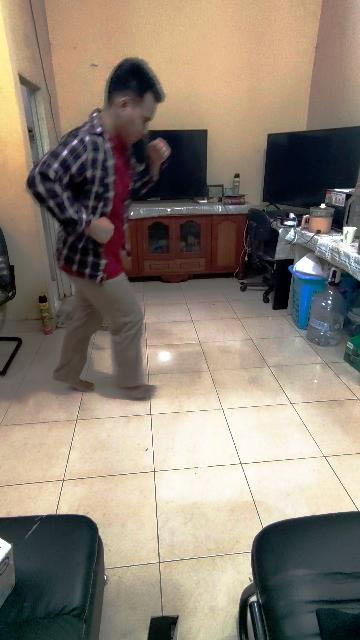berlari: (21, 54, 168, 406)
